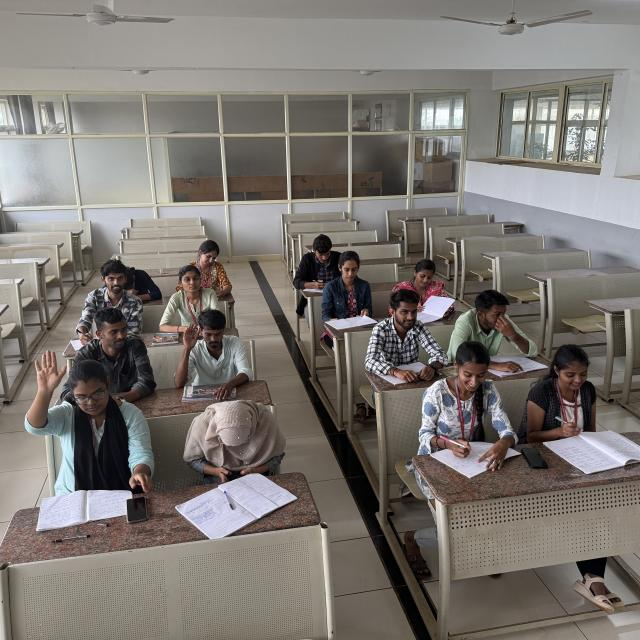Hand Rising: (21, 347, 142, 482)
Reading: (528, 344, 624, 459), (324, 252, 381, 333), (394, 257, 458, 316)
Sleeping: (95, 257, 167, 303)
Using Phone: (186, 390, 287, 480), (290, 237, 338, 304)
Writing: (425, 345, 515, 470), (70, 261, 142, 348)
